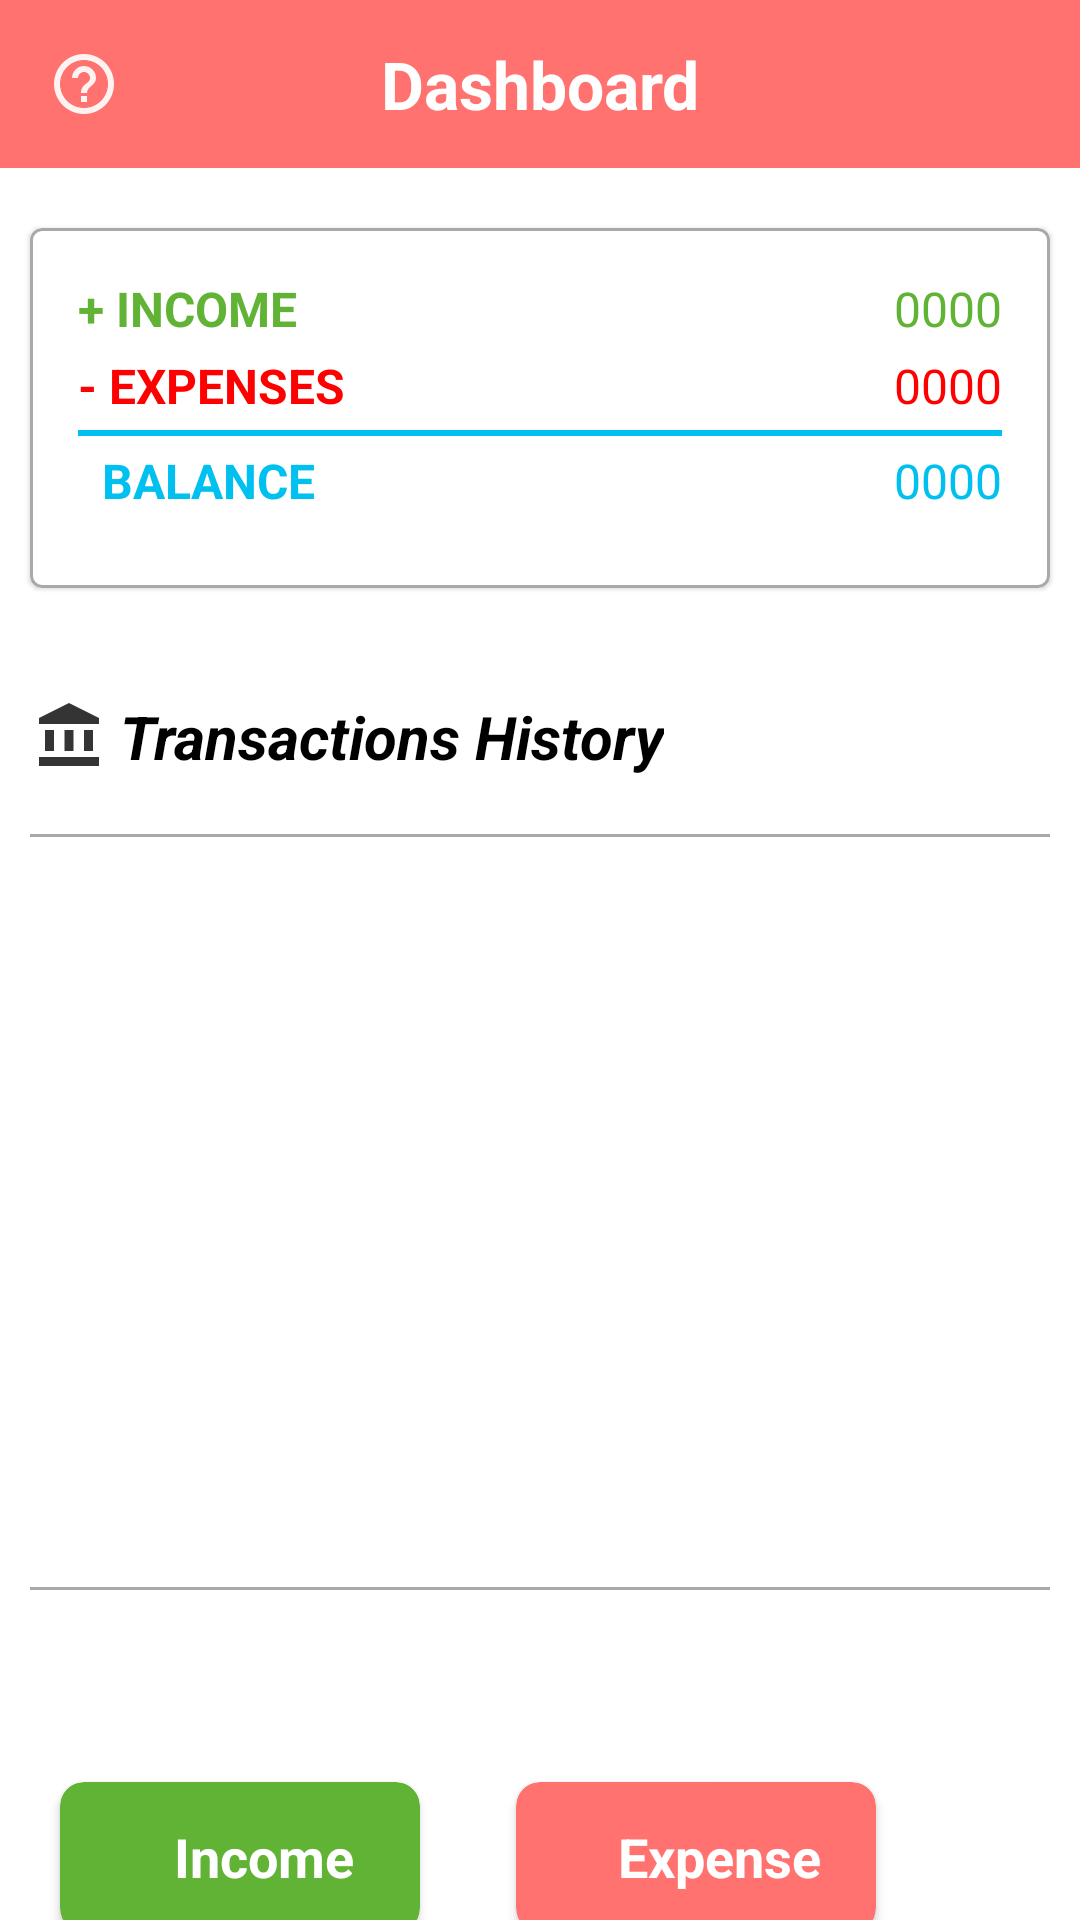

Icons on this 1080px×1920px Android screen, each with the point to tap as (x=x, y=y):
help: (x=84, y=84)
